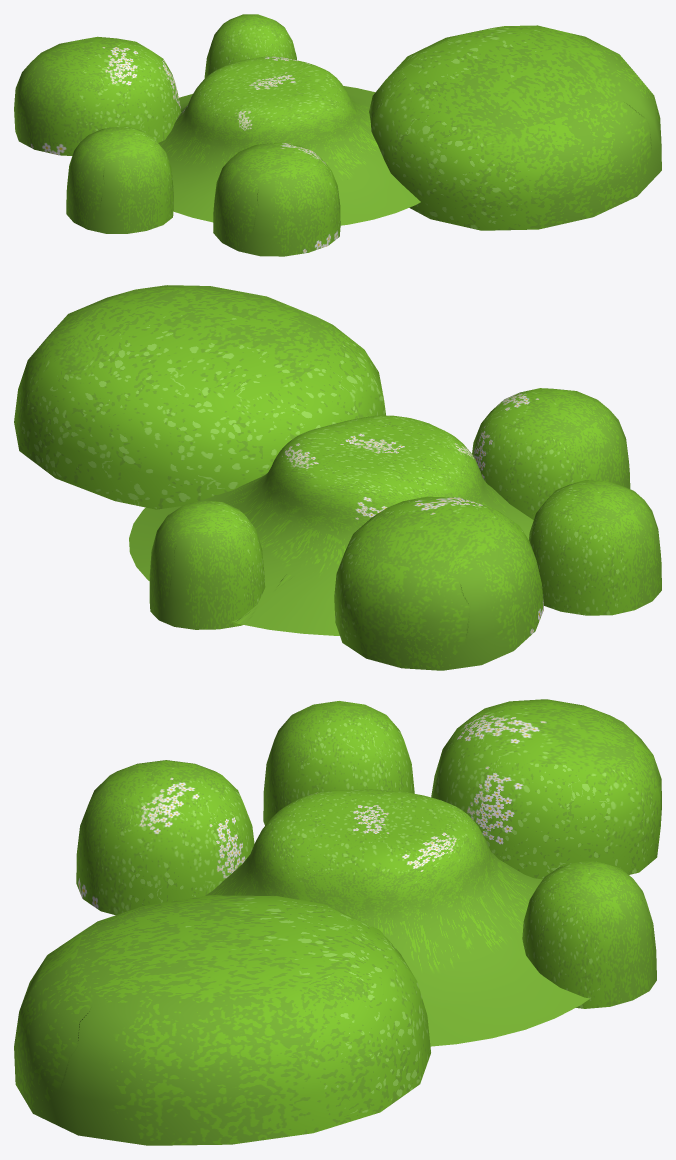
Rendered from grassfield1.glb.
3 views of the same model, one above another, from view 1: azimuth 30°, elevation 25°; view 2: azimuth 150°, elevation 25°; view 3: azimuth 270°, elevation 25° (orthographic). The views are drawn at different scales.
Visible parts, largest first — view 1: Cube.003, Icosphere, Cube.001, Cube.002, Cube, Cube.004; view 2: Cube.003, Icosphere, Cube.001, Cube, Cube.002, Cube.004; view 3: Cube.003, Icosphere, Cube.001, Cube.002, Cube.004, Cube.
Part boxes in pixels (bbox=[...]): Cube.003: bbox=[369, 25, 661, 230]; Icosphere: bbox=[158, 56, 420, 225]; Cube.001: bbox=[14, 36, 181, 155]; Cube.002: bbox=[213, 142, 340, 256]; Cube: bbox=[66, 126, 173, 233]; Cube.004: bbox=[204, 14, 296, 78]; Cube.003: bbox=[14, 285, 385, 509]; Icosphere: bbox=[129, 415, 533, 635]; Cube.001: bbox=[334, 496, 543, 670]; Cube: bbox=[529, 480, 661, 615]; Cube.002: bbox=[472, 388, 630, 519]; Cube.004: bbox=[149, 500, 265, 629]; Cube.003: bbox=[14, 895, 430, 1145]; Icosphere: bbox=[205, 789, 589, 1046]; Cube.001: bbox=[431, 699, 661, 879]; Cube.002: bbox=[76, 760, 254, 915]; Cube.004: bbox=[522, 860, 656, 1008]; Cube: bbox=[263, 701, 414, 825].
Size of the model in its own units: 69.61 by 14.17 by 52.23.
2 materials, 2 textured.
